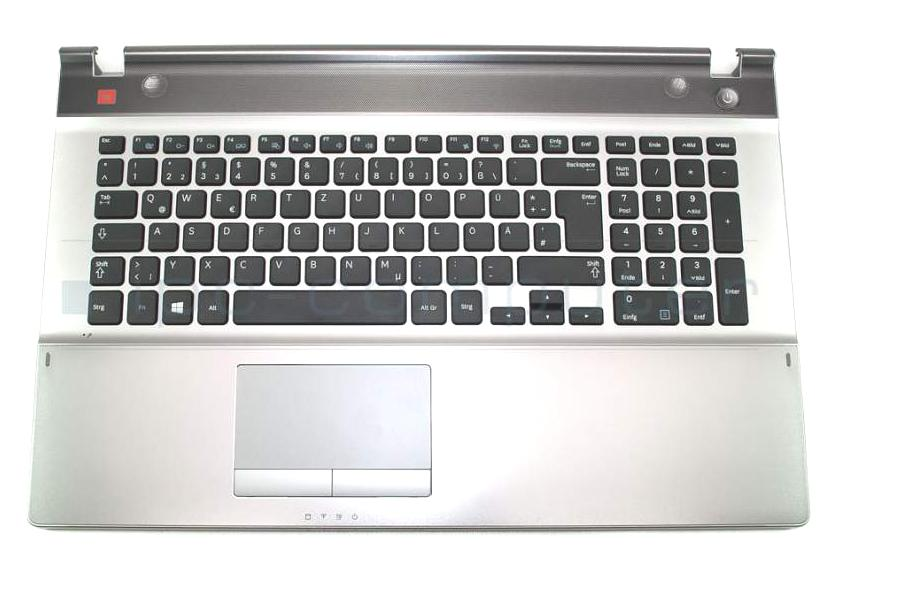0: (434, 154, 465, 182)
1: (124, 155, 154, 183)
2: (158, 154, 189, 183)
3: (192, 154, 223, 183)
4: (228, 154, 258, 182)
5: (261, 154, 292, 182)
6: (296, 154, 326, 182)
7: (331, 154, 361, 183)
8: (365, 154, 396, 183)
9: (400, 154, 431, 183)
a: (146, 219, 176, 249)
accent: (504, 155, 534, 183)
ae: (496, 219, 528, 249)
alt-left: (195, 287, 227, 324)
altgr-right: (408, 287, 445, 323)
b: (301, 253, 334, 284)
c: (231, 253, 263, 283)
caret: (94, 155, 120, 183)
comma: (407, 253, 440, 283)
d: (215, 219, 246, 249)
del: (539, 154, 599, 183)
e: (208, 186, 239, 216)
enter: (552, 186, 601, 249)
f: (250, 220, 281, 249)
g: (285, 219, 316, 249)
h: (320, 219, 351, 249)
hash: (531, 219, 559, 249)
i: (382, 186, 413, 216)
j: (355, 219, 386, 249)
k: (390, 219, 422, 249)
keyboard: (73, 114, 764, 339)
l: (426, 219, 457, 249)
less: (126, 253, 158, 284)
m: (372, 253, 404, 284)
minus: (478, 253, 510, 282)
n: (337, 253, 369, 283)
o: (416, 186, 448, 215)
oe: (460, 219, 492, 249)
p: (452, 186, 482, 215)
plus: (521, 186, 548, 216)
point: (443, 253, 475, 283)
q: (139, 186, 170, 216)
r: (243, 186, 274, 216)
s: (180, 219, 211, 249)
shift-left: (87, 253, 123, 284)
shift-lock: (89, 219, 142, 250)
shift-right: (514, 253, 602, 284)
space: (231, 286, 405, 323)
ss: (469, 154, 500, 182)
strg-left: (88, 289, 124, 325)
strg-right: (448, 287, 481, 323)
t: (277, 186, 308, 216)
tab: (91, 187, 135, 216)
u: (347, 186, 378, 216)
ue: (486, 186, 517, 216)
v: (266, 253, 299, 284)
w: (173, 186, 204, 216)
x: (196, 253, 228, 283)
y: (161, 253, 193, 284)
z: (312, 186, 343, 216)
